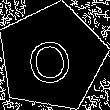O_N: (27, 29, 77, 86)
